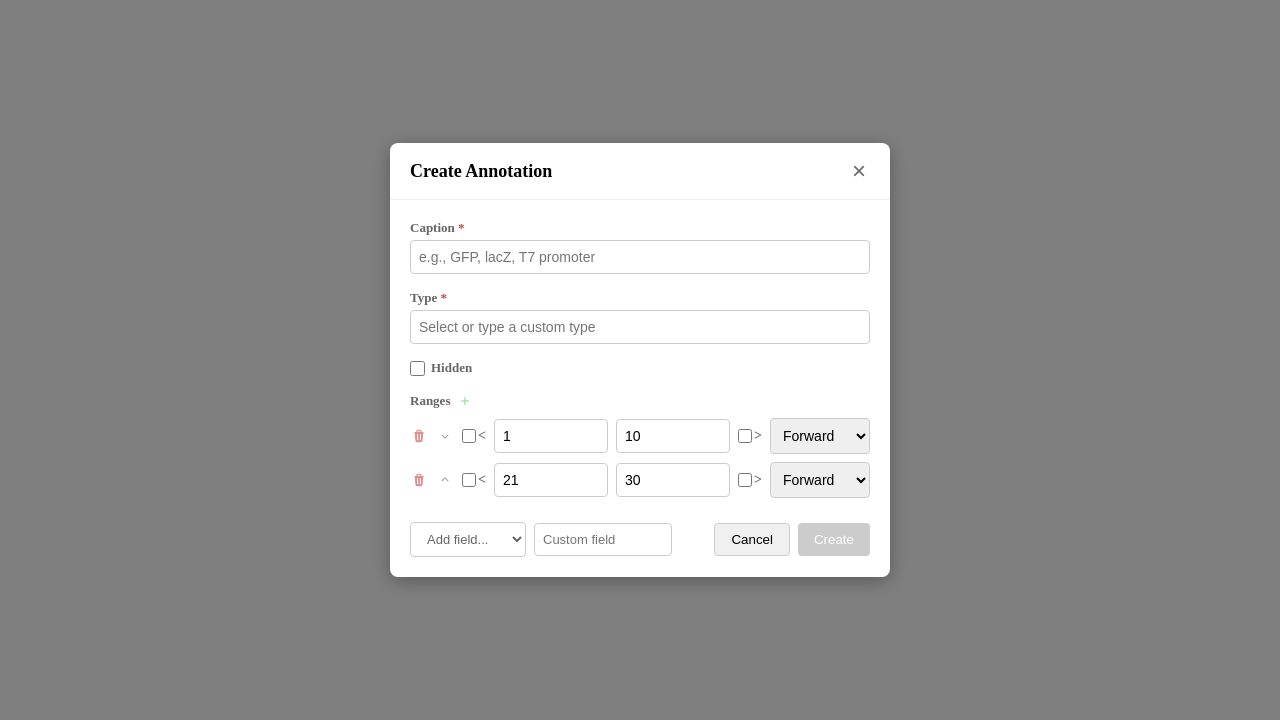
it: AnnotationModal › ranges section › moves range up when up button clicked
// Click up on second range
Click the button with class "btn-move-up". click: [445, 480]
box: [436,473,454,487]
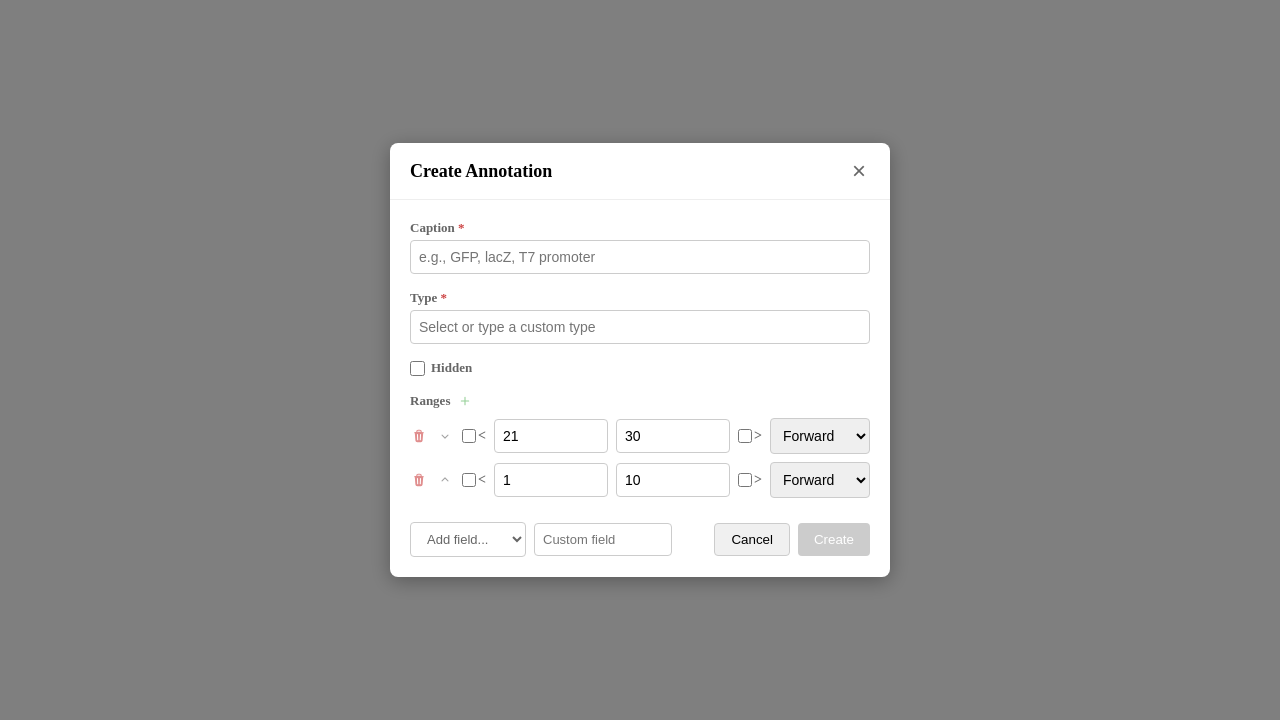
Expected: the 1st number field with class "range-start" holds "21", [494,419,608,453]
Expected: the 3rd number field with class "range-start" holds "1", [494,463,608,497]
